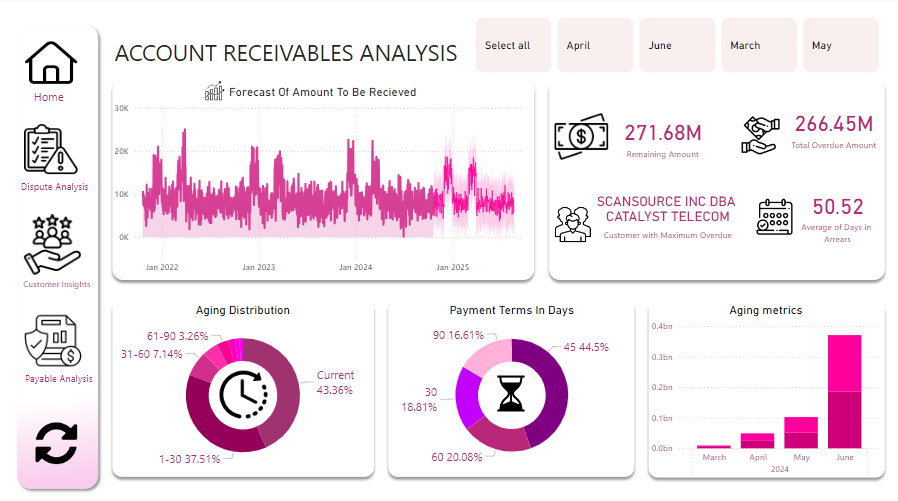

Layout of this report page (visuals, bound fields, positions):
{"tool":"powerbi","page":{"name":"Home","canvas":[1280,720],"ordinal":0},"visuals":[{"type":"card","fields":{"Values":["Sum(AR.REMAINING AMOUNT USD)"]},"box":[782.9,133.4,317,129.9],"z":0},{"type":"card","fields":{"Values":["AR.Total Overdue Amount"]},"box":[1087.7,124.7,192.3,121.2],"z":1000},{"type":"card","fields":{"Values":["Avg(AR.Days in Arrears)"]},"box":[1111.2,187.4,154.5,230.3],"z":2000},{"type":"lineStackedColumnComboChart","title":"Aging metrics","fields":{"Category":["DateTable.Date.Variation.Date Hierarchy.Year","DateTable.Date.Variation.Date Hierarchy.Month"],"Y":["AR.Month-End Aging Total","AR.Quarter-End Aging Total"]},"box":[920.5,433.4,334.3,257],"z":3000},{"type":"donutChart","title":"Aging Distribution","fields":{"Category":["AR.Month-End-Aging"],"Y":["CountNonNull(AR.Month-End-Aging)"]},"box":[159.4,433,374.1,242.5],"z":4000},{"type":"donutChart","title":"Payment Terms In Days","fields":{"Category":["AR.Payment Terms in Days"],"Y":["Sum(AR.Payment Terms in Days)"]},"box":[552.5,433,348.1,242.5],"z":5000},{"type":"card","fields":{"Values":["AR.Customer with Max Remaining Amount"]},"box":[809.5,216,277.5,184.5],"z":6000},{"type":"textbox","box":[159.4,50.2,533.5,62.4],"z":7000},{"type":"image","box":[47,591.3,68.9,84],"z":10000},{"type":"image","box":[781.7,283.5,61.6,77.5],"z":11000},{"type":"image","box":[1068.3,274.6,61.5,72.9],"z":12000},{"type":"image","box":[782.3,151.6,85.8,93],"z":13000},{"type":"image","box":[1046.9,163,64.4,65.8],"z":14000},{"type":"textbox","box":[0,124.3,141.1,38.6],"z":16000},{"type":"textbox","box":[0,255.3,157.9,28.6],"z":17000},{"type":"textbox","box":[23.5,393.1,115.9,40.3],"z":18000},{"type":"textbox","box":[26.9,527.5,115.9,40.3],"z":20000},{"type":"image","box":[284.9,112.8,41.9,39.1],"z":21000},{"type":"image","box":[692.8,531.7,65.8,60.6],"z":22000},{"type":"image","box":[306.6,528.3,77.9,77.9],"z":23000},{"type":"lineChart","title":"Forecast Of Amount To Be Recieved","fields":{"Category":["AR_cashflow_forecasting_dataset.Invoice Date.Variation.Date Hierarchy.Year","AR_cashflow_forecasting_dataset.Invoice Date.Variation.Date Hierarchy.Quarter","AR_cashflow_forecasting_dataset.Invoice Date.Variation.Date Hierarchy.Month","AR_cashflow_forecasting_dataset.Invoice Date.Variation.Date Hierarchy.Day"],"Y":["Sum(AR_cashflow_forecasting_dataset.Amount Received)"]},"box":[159.1,124.4,600.2,276.2],"z":24000},{"type":"advancedSlicerVisual","fields":{"Values":["DateTable.Month"]},"box":[670.3,24.2,583.7,88.3],"z":25000},{"type":"actionButton","box":[37,60.5,73.9,63.8],"z":25001},{"type":"actionButton","box":[35.3,179.7,75.6,70.6],"z":25002},{"type":"actionButton","box":[31.9,307.4,85.7,85.7],"z":25003},{"type":"actionButton","box":[35.3,446.8,82.3,80.6],"z":25004}]}

Visuals, with their boxes in screenshot pixels (x1, y1, x2, y2), scaled from the page's 1280x720 canvas onto the 898x501 screenshot:
card - Sum(AR.REMAINING AMOUNT USD): bbox=[549, 93, 772, 183]
card - AR.Total Overdue Amount: bbox=[763, 87, 897, 171]
card - Avg(AR.Days in Arrears): bbox=[780, 130, 888, 291]
"Aging metrics" lineStackedColumnComboChart: bbox=[646, 302, 880, 480]
"Aging Distribution" donutChart: bbox=[112, 301, 374, 470]
"Payment Terms In Days" donutChart: bbox=[388, 301, 632, 470]
card - AR.Customer with Max Remaining Amount: bbox=[568, 150, 763, 279]
textbox: bbox=[112, 35, 486, 78]
image: bbox=[33, 411, 81, 470]
image: bbox=[548, 197, 592, 251]
image: bbox=[749, 191, 793, 242]
image: bbox=[549, 105, 609, 170]
image: bbox=[734, 113, 780, 159]
textbox: bbox=[0, 86, 99, 113]
textbox: bbox=[0, 178, 111, 198]
textbox: bbox=[16, 274, 98, 302]
textbox: bbox=[19, 367, 100, 395]
image: bbox=[200, 78, 229, 106]
image: bbox=[486, 370, 532, 412]
image: bbox=[215, 368, 270, 422]
"Forecast Of Amount To Be Recieved" lineChart: bbox=[112, 87, 533, 279]
advancedSlicerVisual - DateTable.Month: bbox=[470, 17, 880, 78]
actionButton: bbox=[26, 42, 78, 86]
actionButton: bbox=[25, 125, 78, 174]
actionButton: bbox=[22, 214, 83, 274]
actionButton: bbox=[25, 311, 83, 367]
